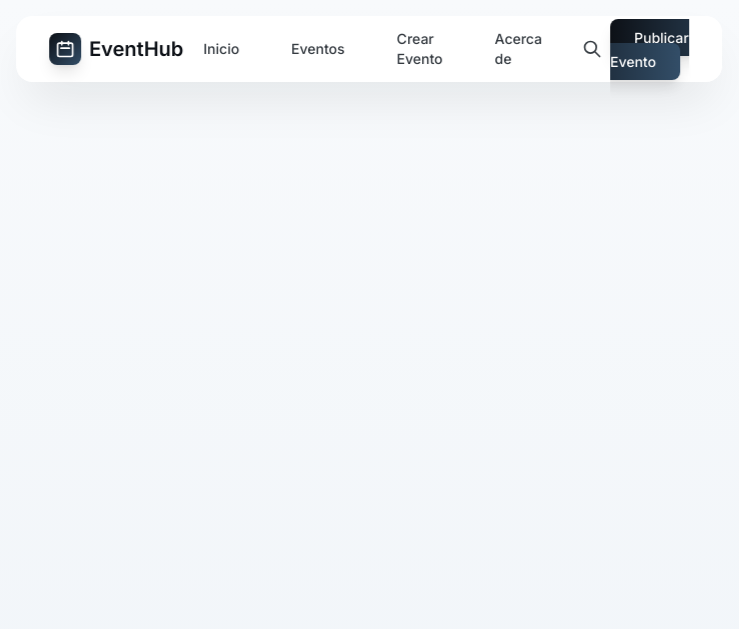
Test case: Navbar › funcionalidad de búsqueda › abre el panel de búsqueda al hacer clic en el botón
Click the button named "buscar": (592, 49) [574,31,610,67]
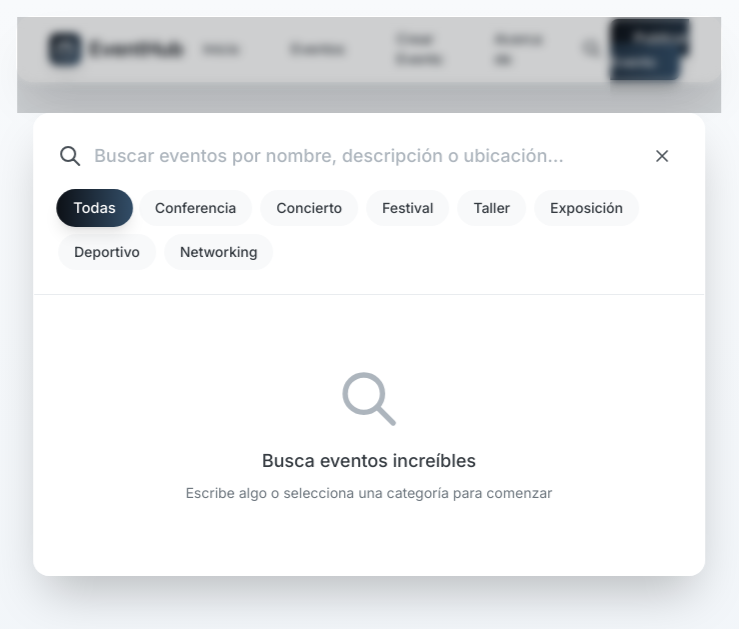
Result: the field with placeholder "Buscar eventos por nombre, descripción o ubicación..." is shown at [94,142,632,170]
